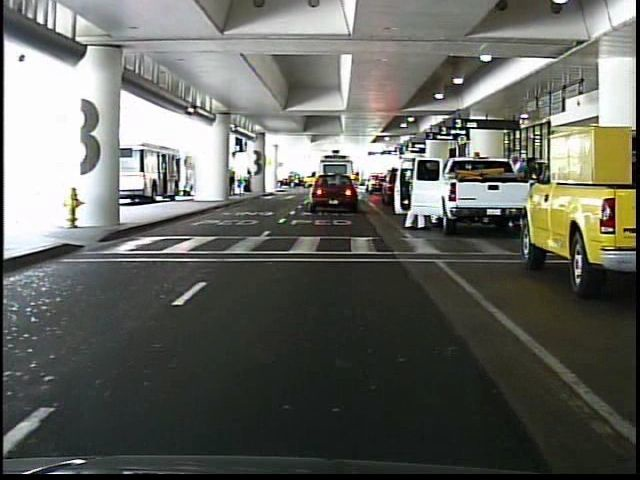person: (404, 151, 431, 232), (226, 163, 239, 198), (243, 165, 257, 195)
